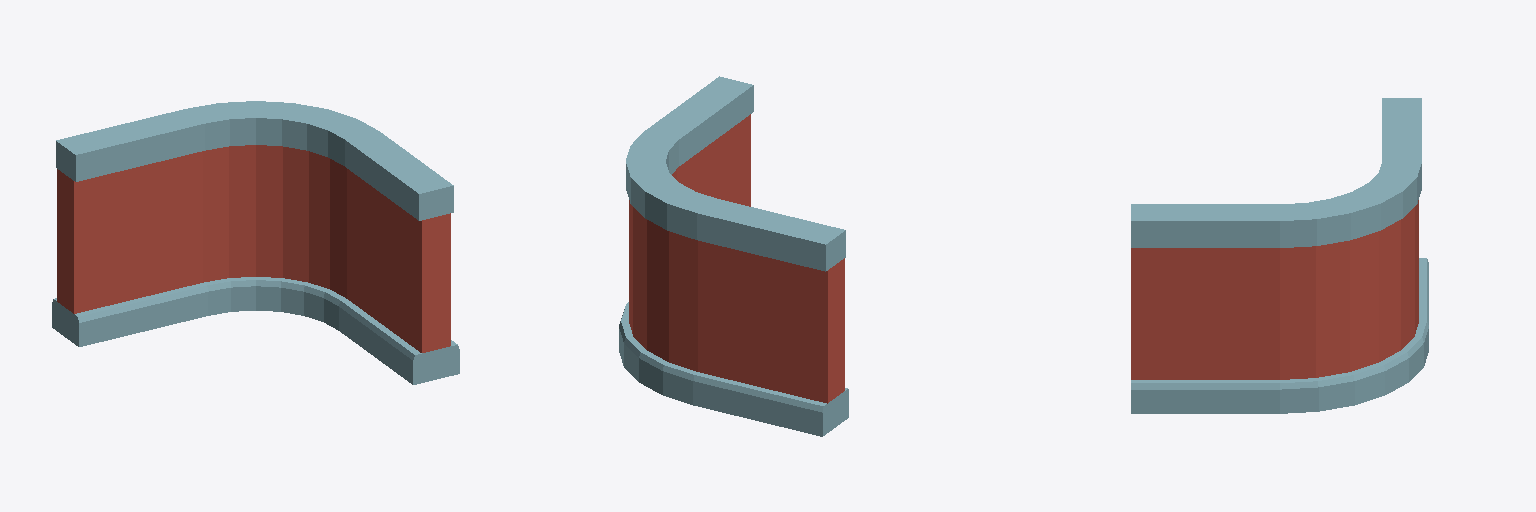
Rendered from brickWallCurveSmall.obj.
The picture shows the model from 3 angles: view 1: azimuth 30°, elevation 25°; view 2: azimuth 150°, elevation 25°; view 3: azimuth 270°, elevation 25°; orthographic projection.
Parts seen in each view (by area): view 1: brickWallCurveSmall; view 2: brickWallCurveSmall; view 3: brickWallCurveSmall.
Part boxes in pixels (bbox=[...]): brickWallCurveSmall: bbox=[52, 101, 459, 384]; brickWallCurveSmall: bbox=[619, 76, 848, 436]; brickWallCurveSmall: bbox=[1131, 98, 1428, 413].
Bounding box in the file's own units: 1 × 0.7019 × 1.